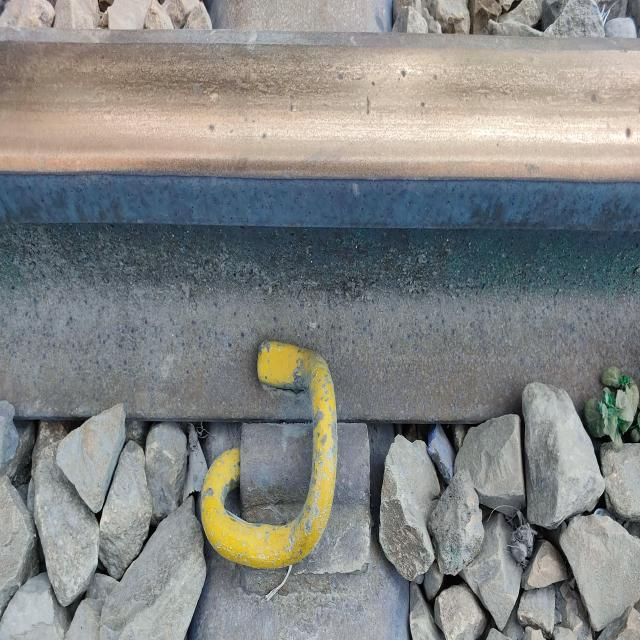Good Fasteners: (202, 307, 380, 608)
